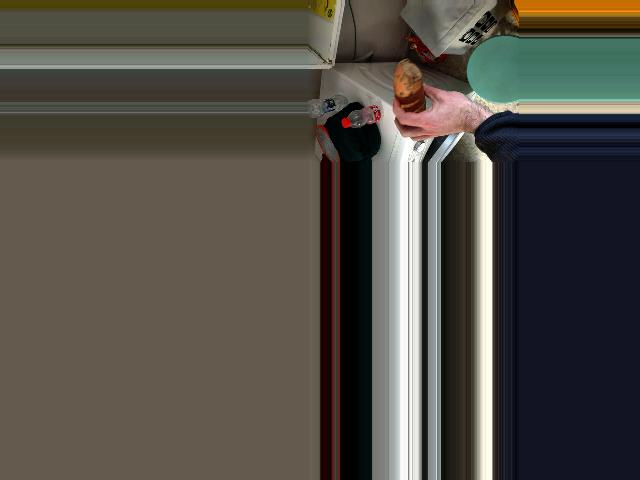sweet_potato: (399, 75, 441, 126)
